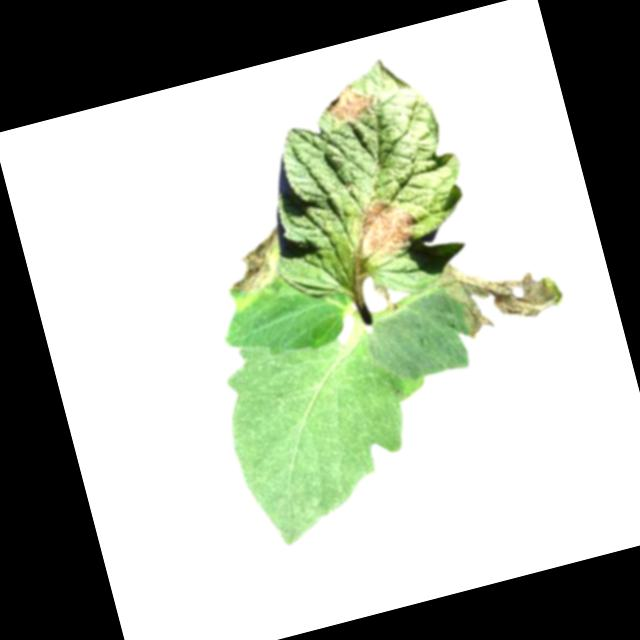Late_blight: (432, 236, 568, 345), (209, 224, 295, 314), (342, 191, 424, 269), (318, 74, 383, 129)
healthy: (202, 306, 456, 555)
